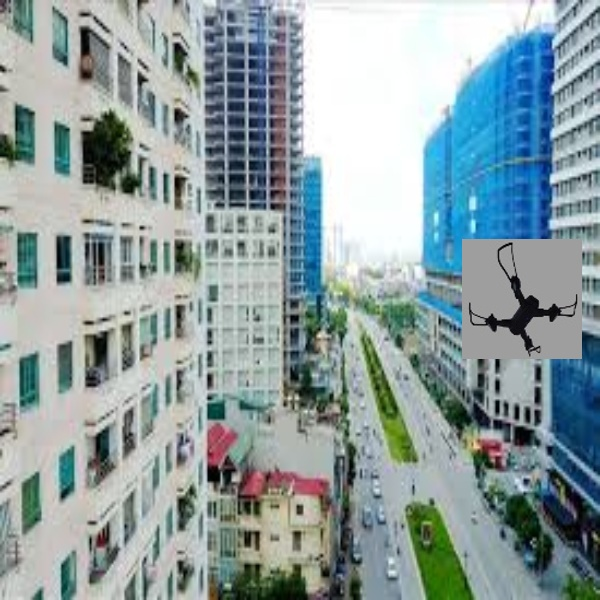drone: (473, 238, 580, 358)
